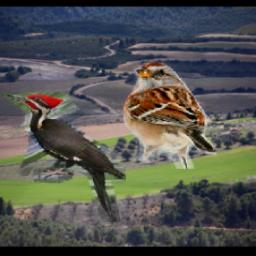Sparrow: (121, 62, 216, 170)
Woodpecker: (3, 93, 126, 223)
